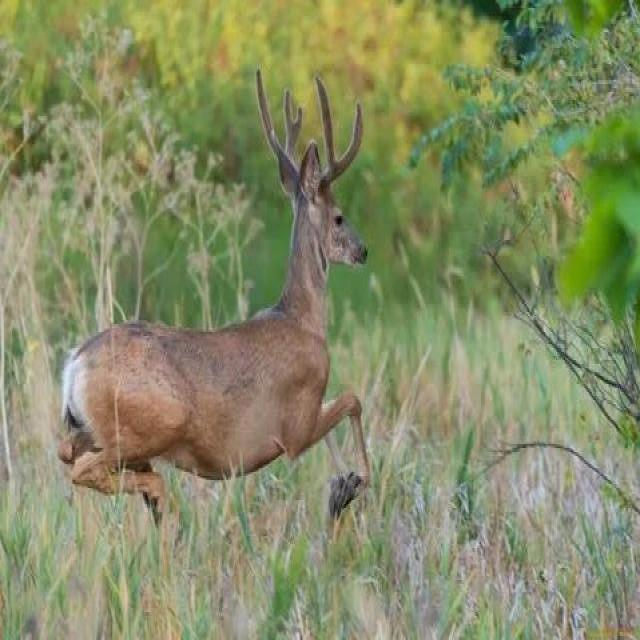deer: (44, 118, 410, 566)
